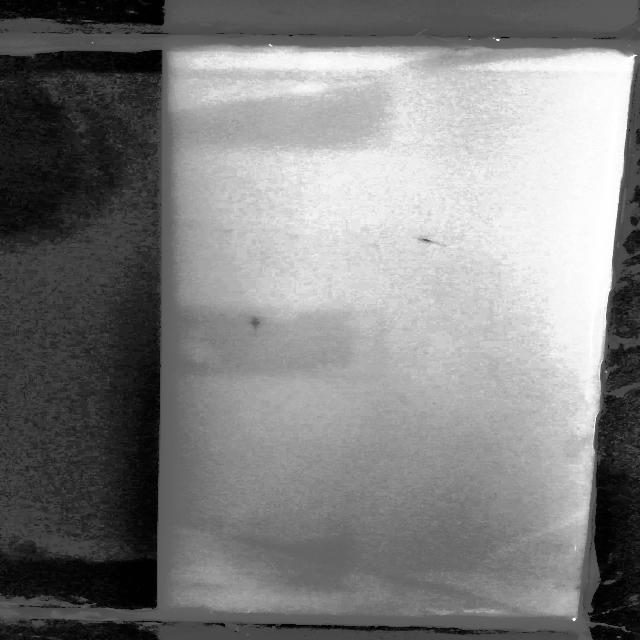shrimp: (246, 314, 266, 333), (412, 236, 447, 245)
